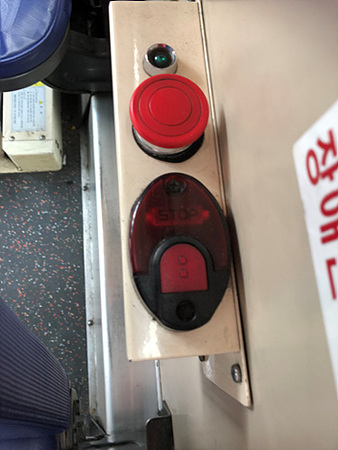bell: (130, 171, 233, 331)
